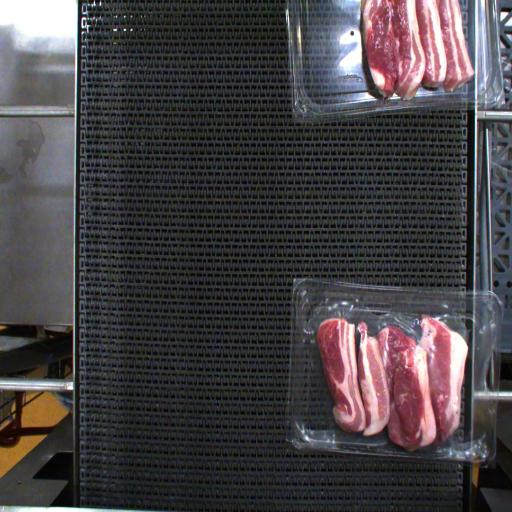unsealed: (295, 282, 486, 446)
